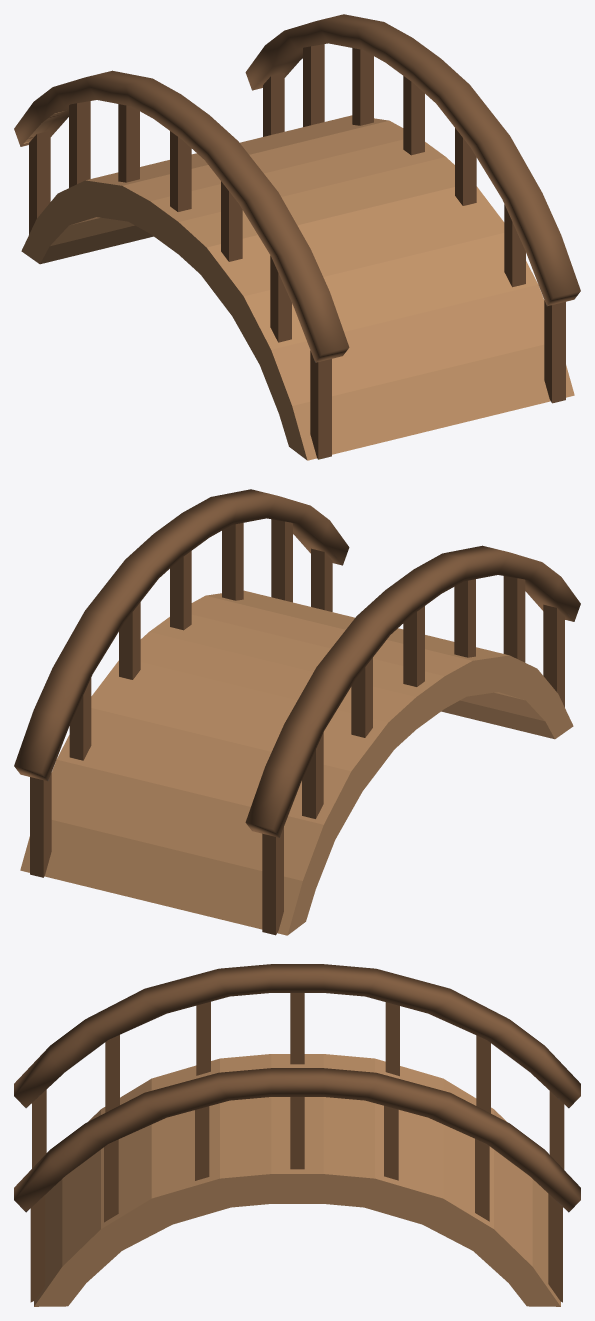
File: Bridge.fbx
The picture shows the model from 3 angles, top to bottom: view 1: azimuth 30°, elevation 25°; view 2: azimuth 150°, elevation 25°; view 3: azimuth 270°, elevation 25°; orthographic projection. The views are drawn at different scales.
Parts seen in each view (by area): view 1: Bridge; view 2: Bridge; view 3: Bridge.
Part boxes in pixels (x1,y1,x2,y2): Bridge: (14, 14, 580, 460); Bridge: (14, 489, 580, 935); Bridge: (14, 964, 580, 1306).
Size of the model in its own units: 1.78 by 1.55 by 3.55.
